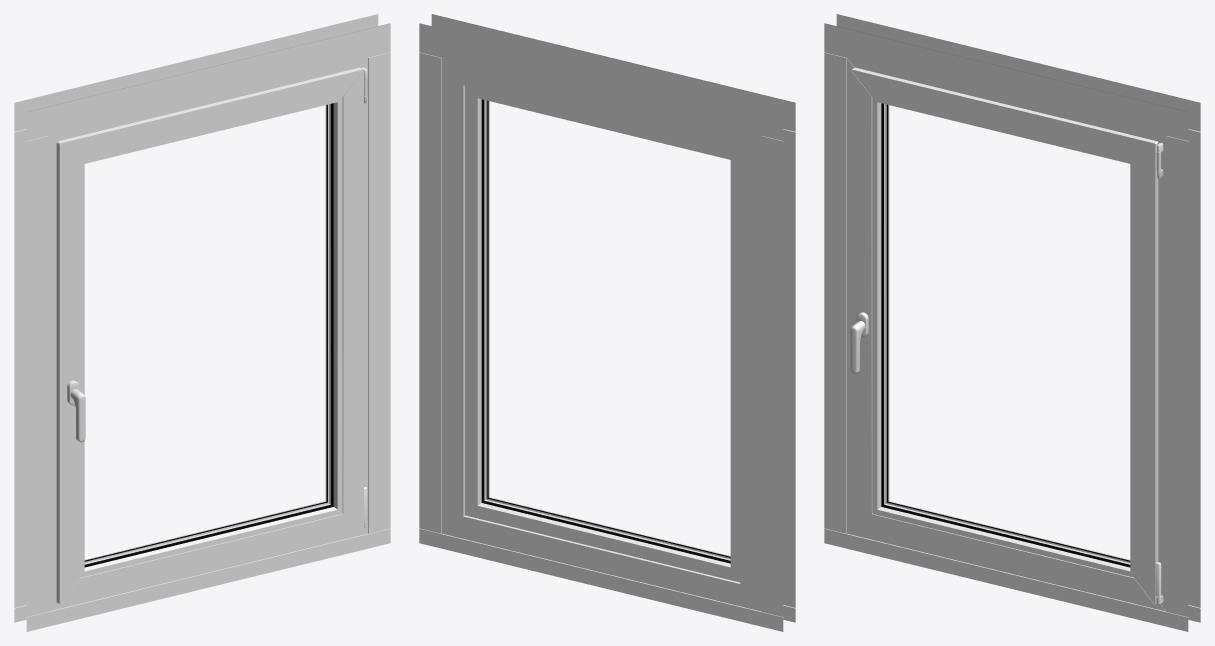
The model's file is residential_window.gltf.
The picture shows the model from 3 angles, left to right: view 1: azimuth 30°, elevation 25°; view 2: azimuth 150°, elevation 25°; view 3: azimuth 330°, elevation 25°; orthographic projection.
Visible parts, largest first — view 1: #WIN0003_Frame, #WIN0003_Window, #WIN0003_Handle; view 2: #WIN0003_Frame, #WIN0003_Window; view 3: #WIN0003_Frame, #WIN0003_Window, #WIN0003_Handle.
Part boxes in pixels (box(x1,y1,x2,y2)): #WIN0003_Frame: box(14, 14, 390, 631); #WIN0003_Window: box(56, 67, 367, 604); #WIN0003_Handle: box(70, 389, 85, 442); #WIN0003_Frame: box(419, 14, 795, 631); #WIN0003_Window: box(465, 85, 740, 582); #WIN0003_Frame: box(824, 14, 1200, 631); #WIN0003_Window: box(851, 67, 1161, 604); #WIN0003_Handle: box(850, 321, 865, 374).
Size of the model in its own units: 1.04 by 1.42 by 0.128.
Materials: 1 (1 with a texture image).
